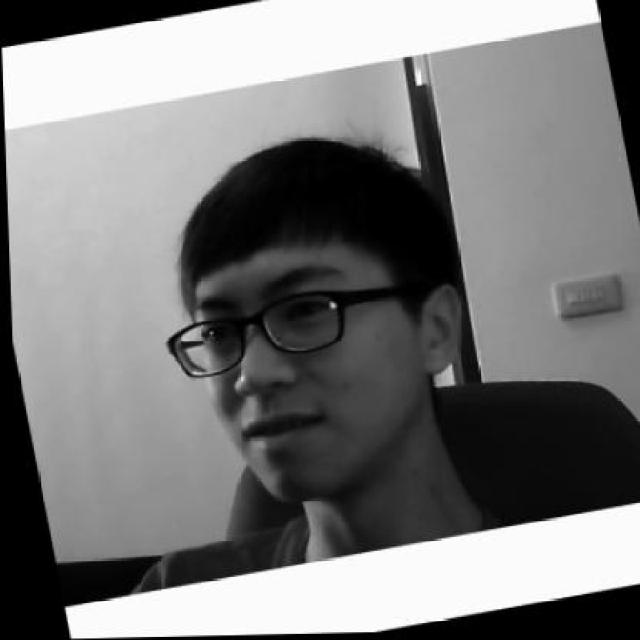attentif: (130, 115, 488, 518)
